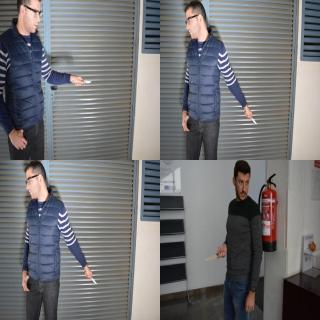knife: (243, 111, 257, 125), (83, 271, 97, 285), (204, 251, 221, 261), (72, 80, 92, 86)
